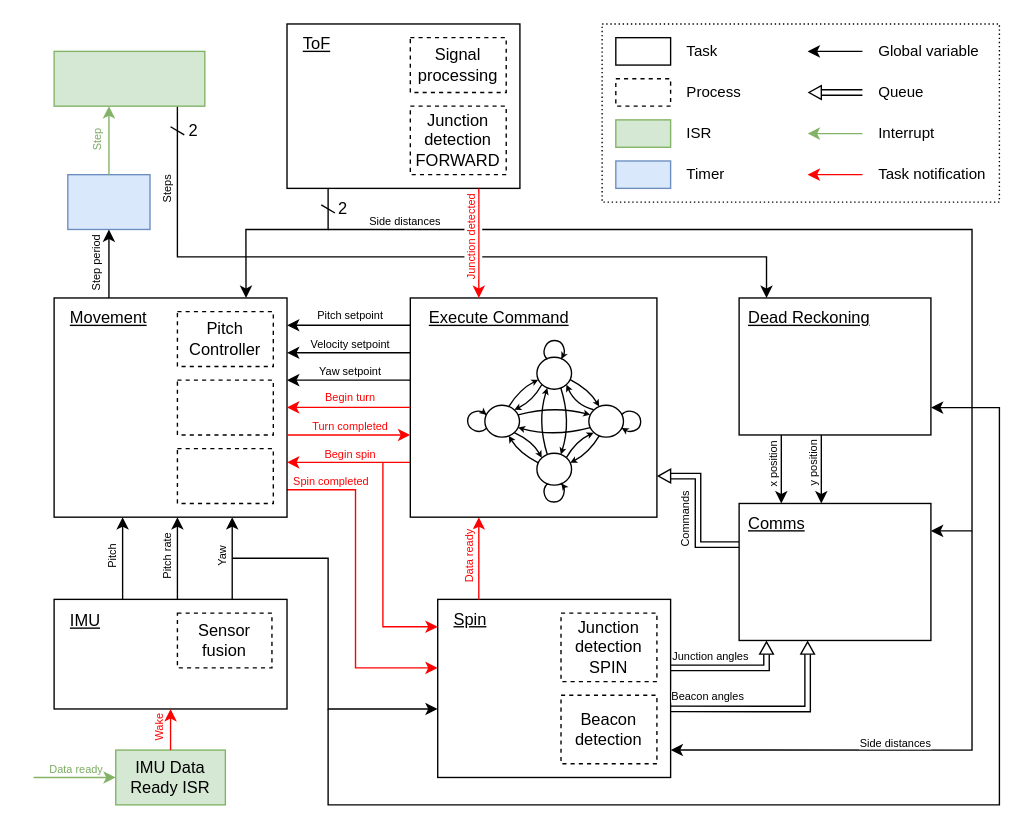
Some shapes in this 1034 by 840 pixel diagram are drawn without their labels. The centre of each missing label's shape, as x and y in pixels:
"Motor Timer" goes at (x=108, y=201).
"Step Motor ISR" goes at (x=129, y=78).
"Velocity Controller" goes at (x=224, y=407).
"Yaw Controller" goes at (x=224, y=475).
